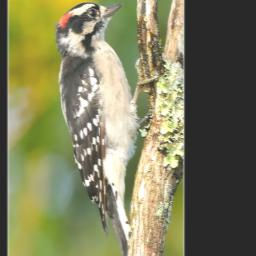Woodpecker: (52, 2, 155, 256)
